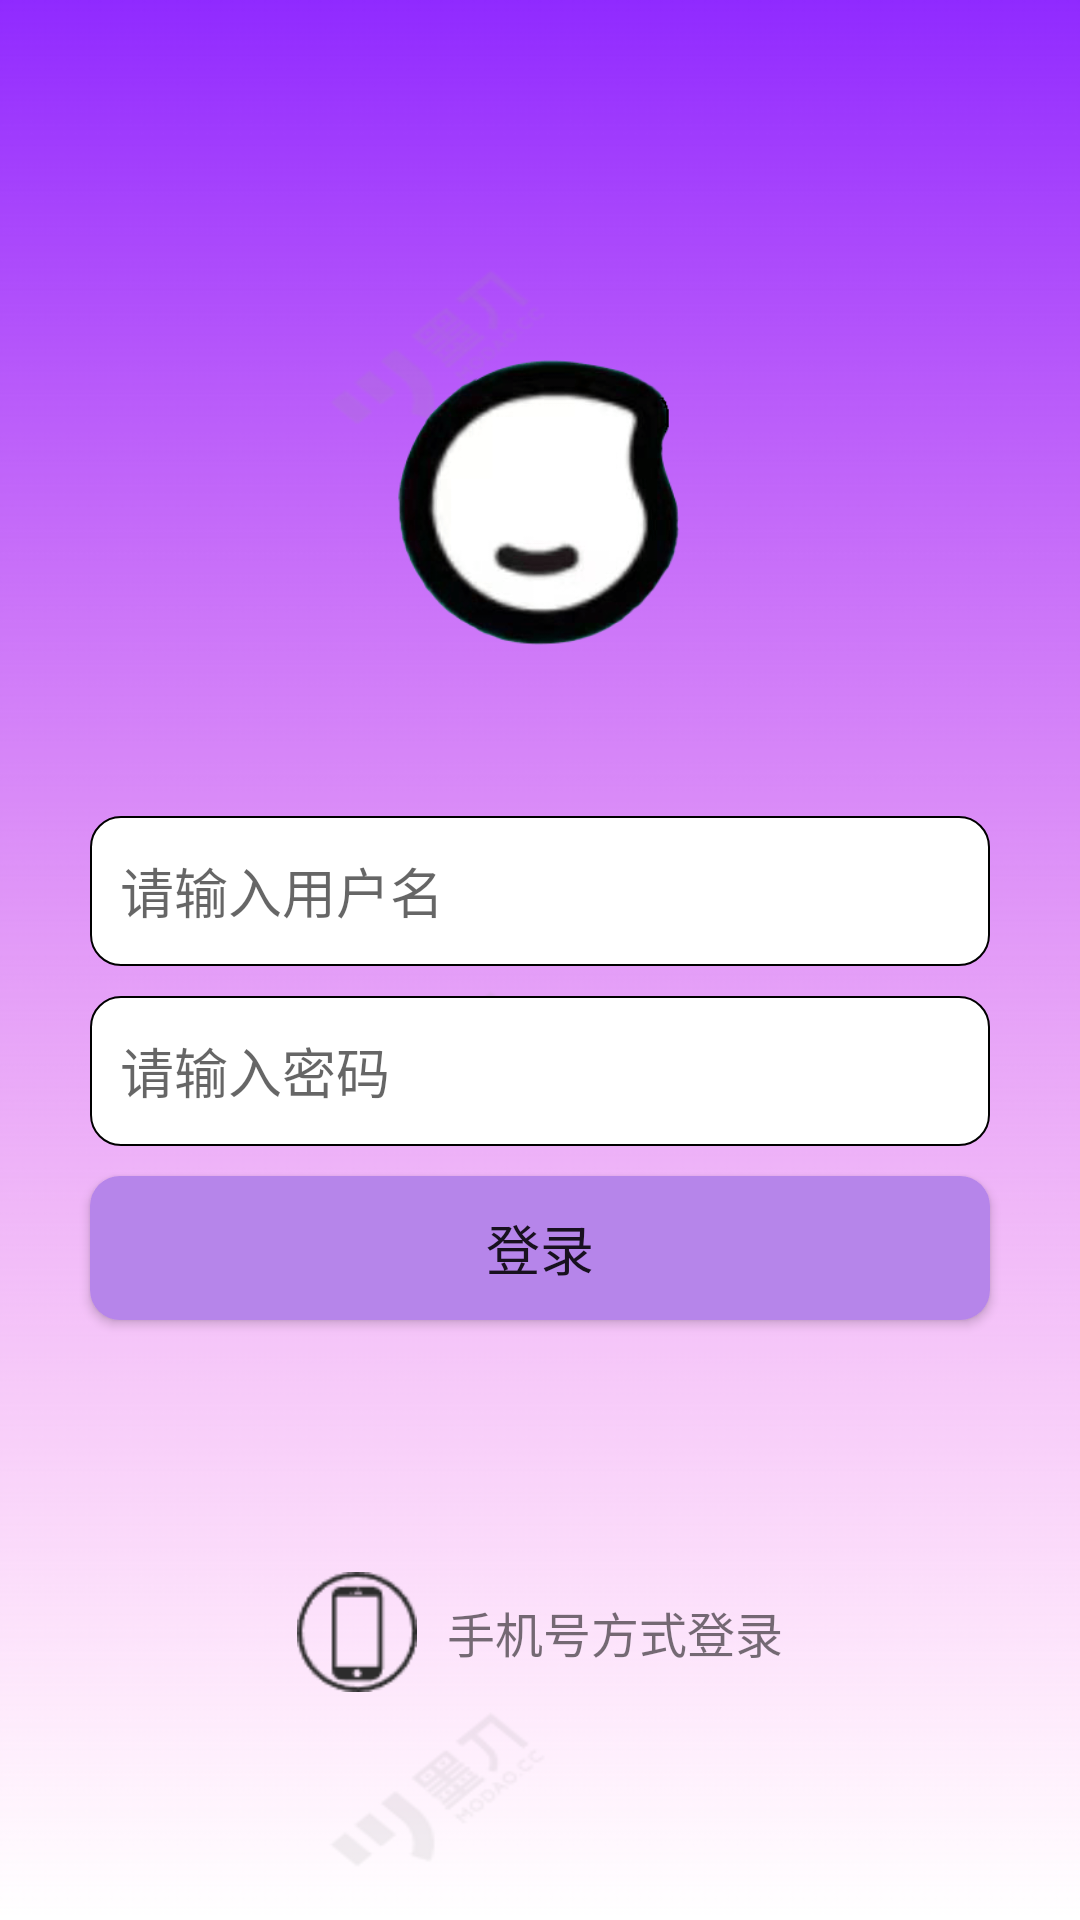

Screen size 1080px x 1920px. Icon name, then its center in pixels as (x,y):
imgphone: (357,1632)
